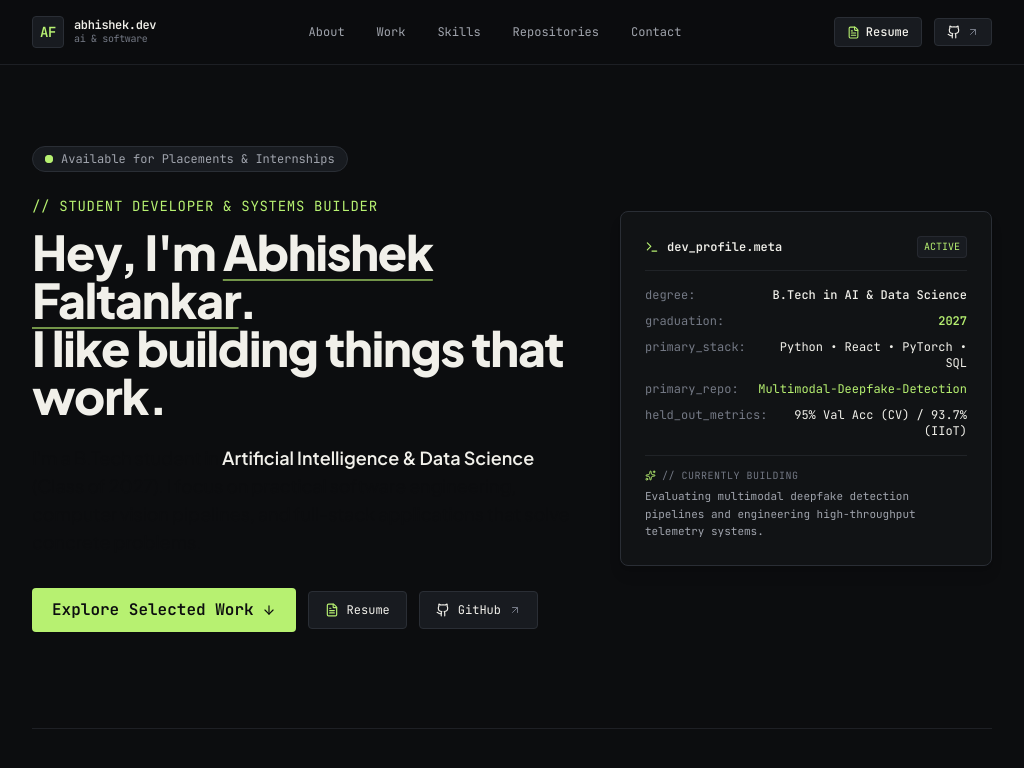
Test: Sections and Integration › Full Application Integration (App) › renders all page sections and opens/closes Resume modal from Header
// Check header resume button opens resume modal
Click the button "Resume" in the row of "About".
click(878, 32)  # box [834, 17, 922, 47]
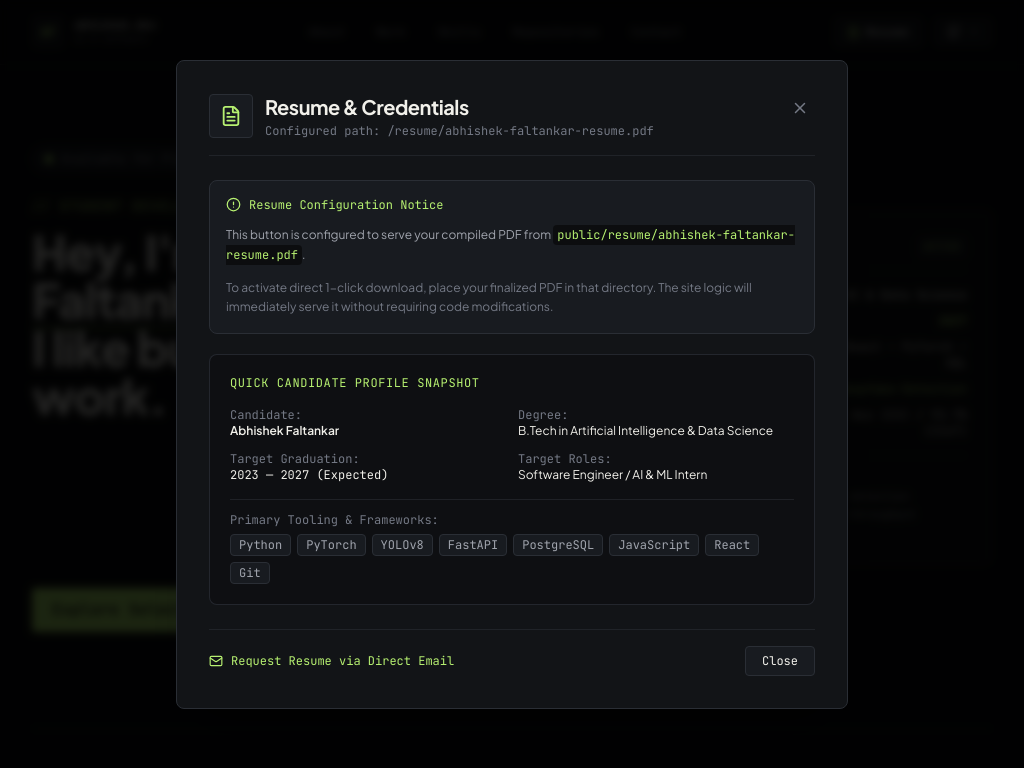
Expected: the dialog is shown
Expected: the heading "Resume & Credentials" is shown, [265, 94, 469, 118]
// Close modal
Click the button named "Close modal".
click(800, 108)  # box [785, 92, 815, 122]
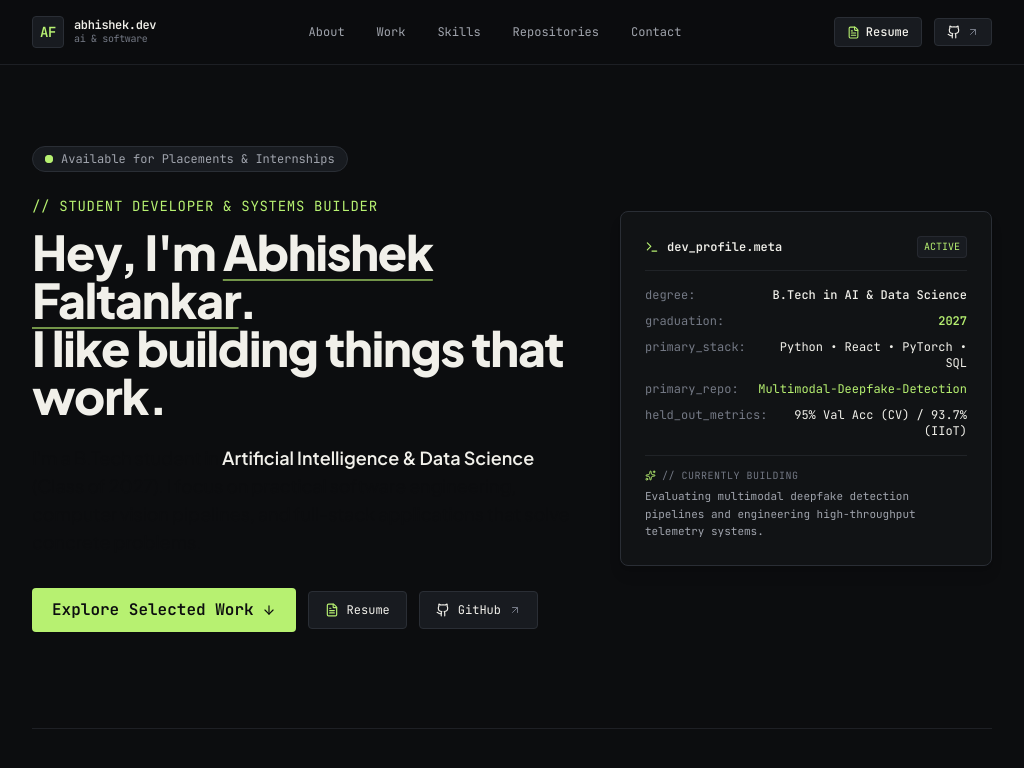
Expected: the dialog is gone
